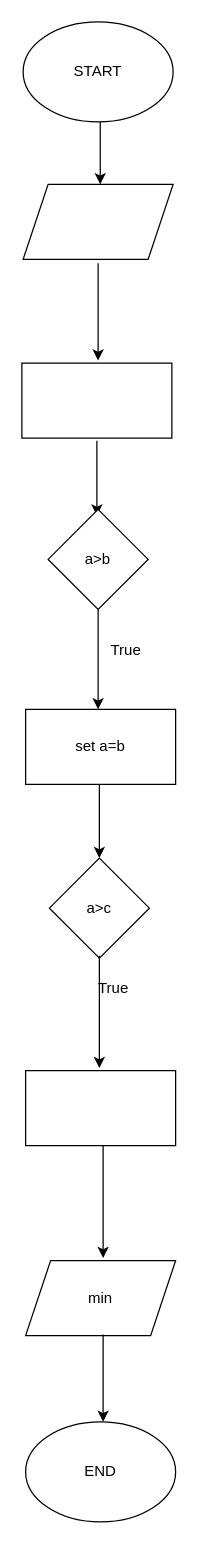
The diagram is 198 pixels wide and 1544 high, and some of its shapes have lost their labels. The centre of each missing label's shape, as x and y in pixels:
"a,b,c" belongs at (97,221).
"min=a" belongs at (96,400).
"set a=c" belongs at (100,1107).
